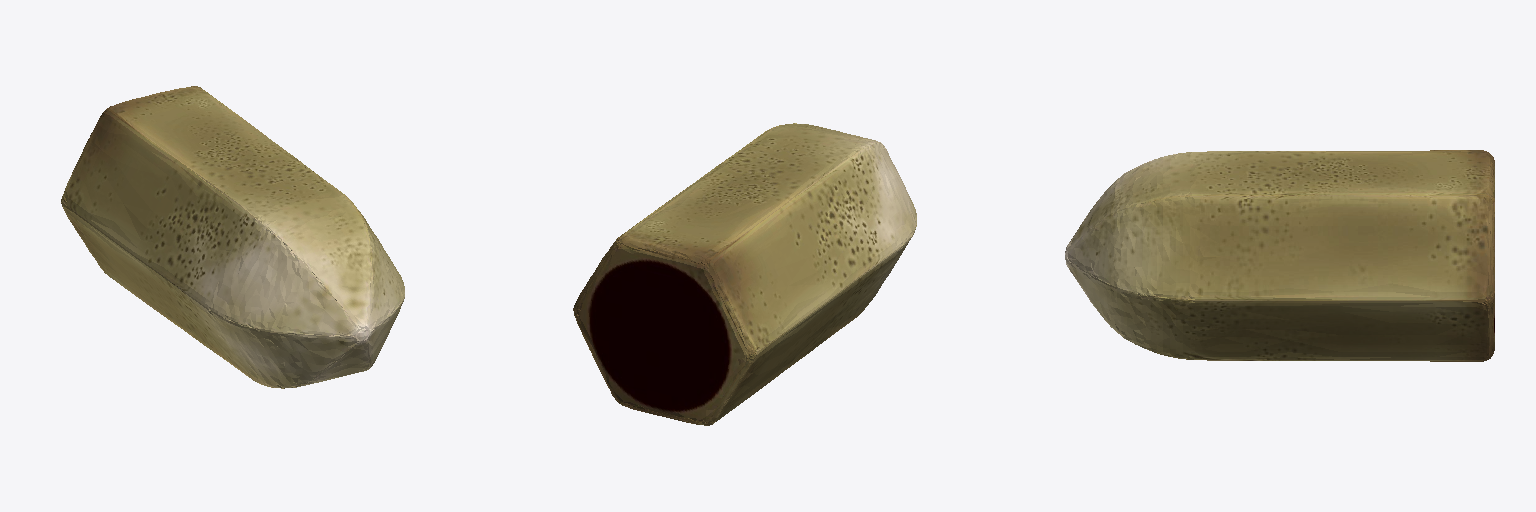
3 views of the same model, side by side, from view 1: azimuth 30°, elevation 25°; view 2: azimuth 150°, elevation 25°; view 3: azimuth 270°, elevation 25° (orthographic).
Visible parts, largest first — view 1: mmGroup0; view 2: mmGroup0; view 3: mmGroup0.
Boxes of the visible parts, box(x1,y1,x2,y2) form: mmGroup0: box(61, 86, 404, 388); mmGroup0: box(573, 123, 916, 425); mmGroup0: box(1065, 150, 1494, 361).
Bounding box in the file's own units: 2.42 × 2.14 × 4.92.
1 materials, 1 textured.